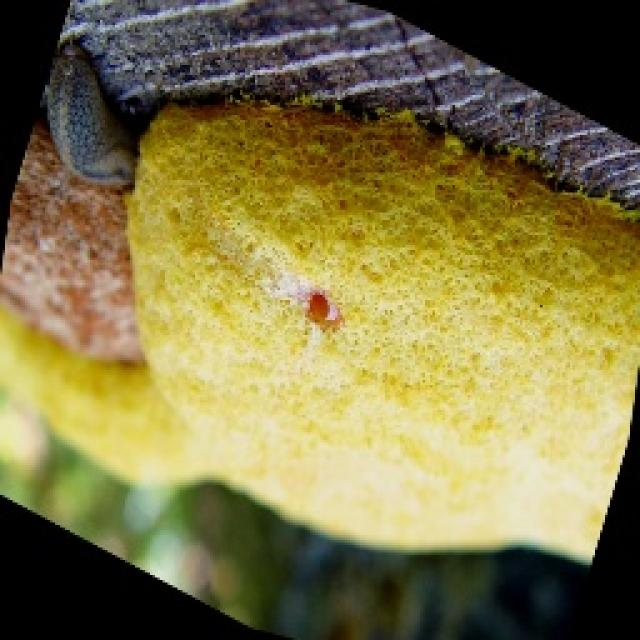Dog_vomit_slime_mold: (46, 24, 640, 608)
